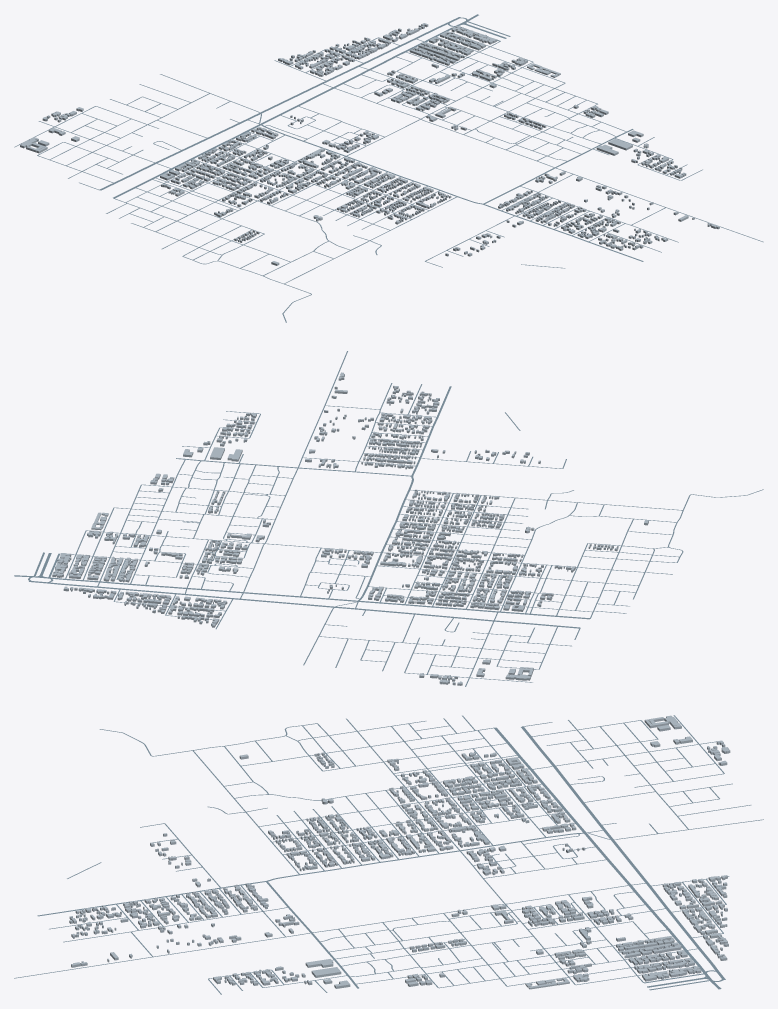
The picture shows the model from 3 angles, top to bottom: view 1: azimuth 30°, elevation 25°; view 2: azimuth 150°, elevation 25°; view 3: azimuth 270°, elevation 25°; orthographic projection. The views are drawn at different scales.
Bounding box in the file's own units: 2016 × 8 × 2287.
